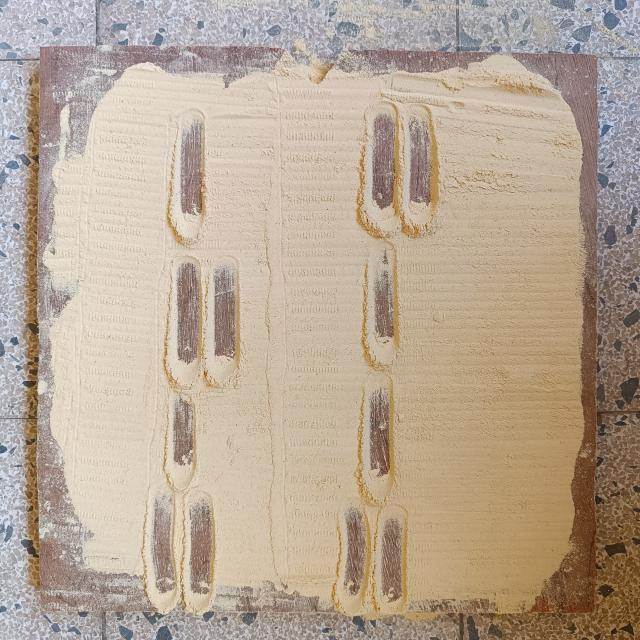double: (352, 97, 448, 242), (164, 248, 248, 394), (140, 481, 223, 620), (330, 506, 412, 620)
single: (358, 238, 408, 376), (167, 106, 214, 248), (358, 369, 403, 511), (160, 388, 205, 492)
